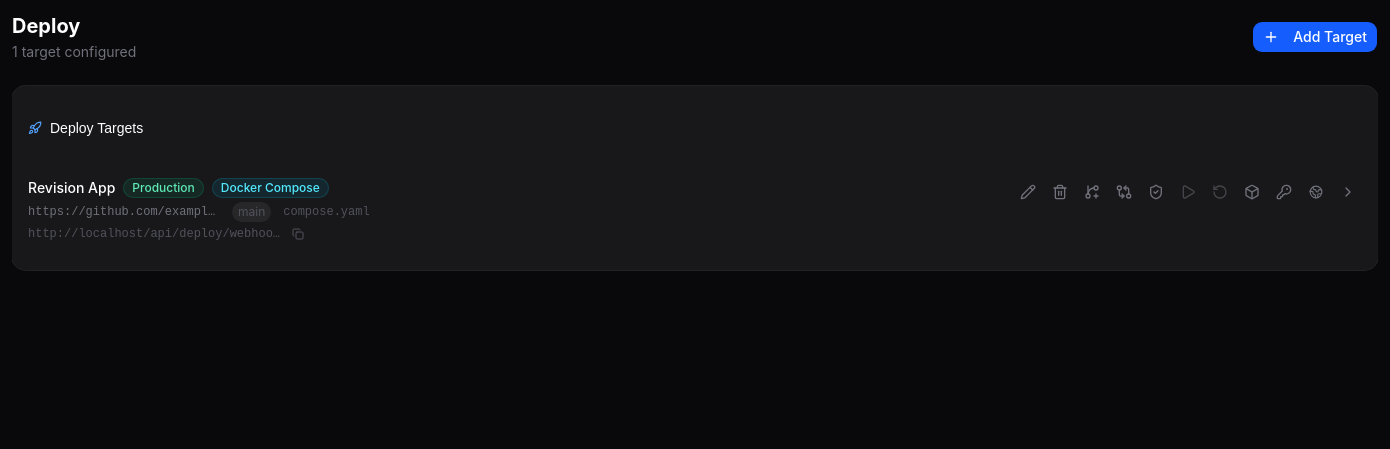
Test: Deploy page › compares the current, deployed, and rollback revisions on demand
Click the button named "Compare revisions for Revision App".
click(1124, 192)  # box left=1110, top=178, right=1138, bottom=206
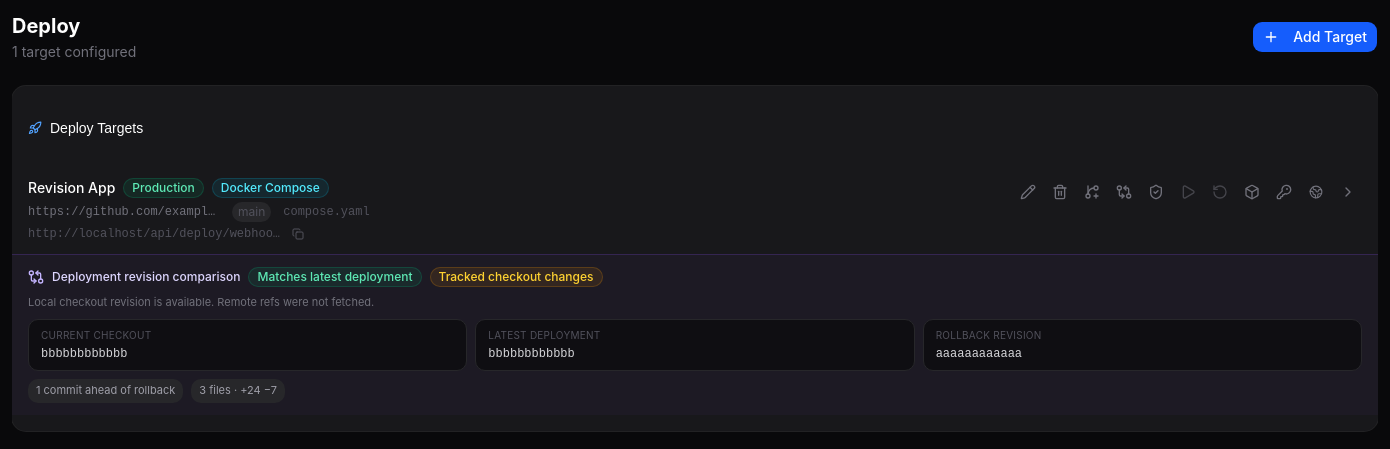
Check: the text "Deployment revision comparison" is shown, box left=52, top=269, right=240, bottom=285
Check: the text "Matches latest deployment" is shown, box left=248, top=267, right=422, bottom=287
Check: the text "Tracked checkout changes" is shown, box left=430, top=267, right=602, bottom=287
